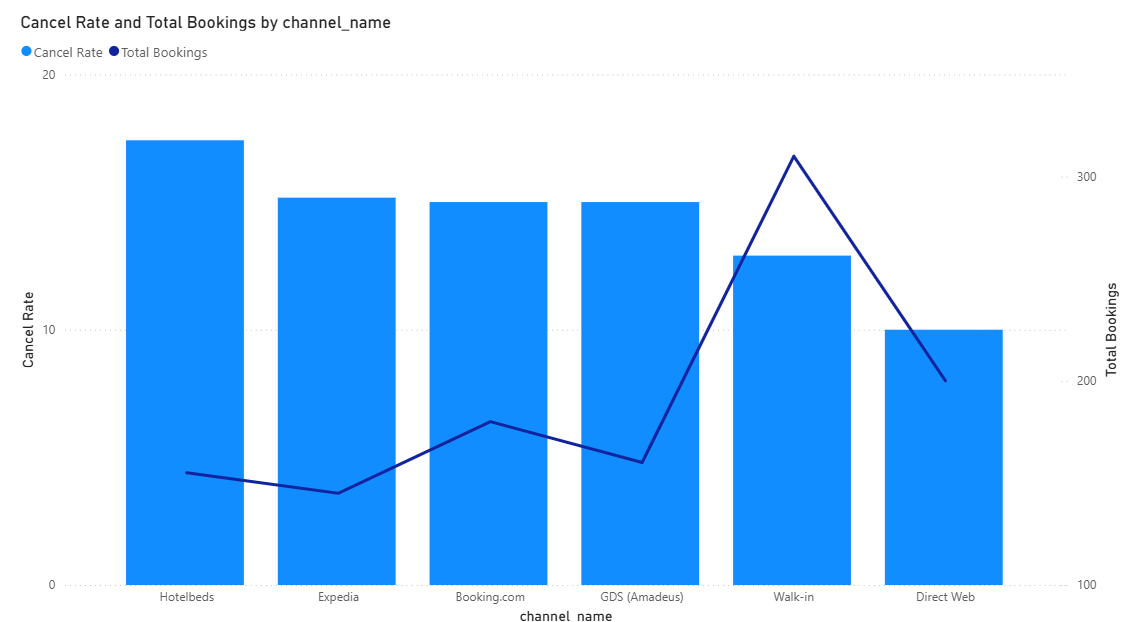

The page's visual inventory and layout, read from the dashboard file:
{"tool":"powerbi","page":{"name":"Page 2","canvas":[1280,720],"ordinal":1},"visuals":[{"type":"lineStackedColumnComboChart","fields":{"Category":["dim_channels (1).channel_name"],"Y":["fact_bookings (1).Cancel Rate"],"Y2":["fact_bookings (1).Total Bookings"]},"box":[91.7,59.4,1103.7,614.7],"z":0}]}

Visuals, with their boxes on the page's 1280x720 design canvas (x1, y1, x2, y2). These are canvas units, not pixel positions in the 1148x622 screenshot, which may show the page scaled, cropped or inside an application window:
lineStackedColumnComboChart - dim_channels (1).channel_name x fact_bookings (1).Cancel Rate: 92,59,1195,674
